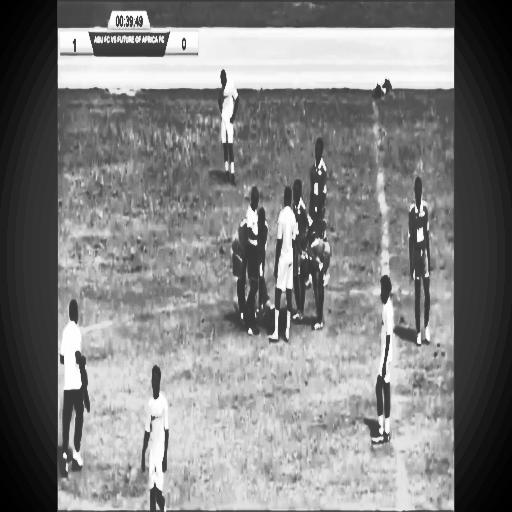distract: (59, 270, 96, 495)
referee: (248, 185, 258, 334)
team1: (135, 351, 175, 512), (371, 263, 396, 455), (274, 174, 294, 356), (215, 61, 244, 185)
team2: (410, 170, 434, 356), (291, 159, 312, 320), (296, 242, 332, 333), (312, 127, 330, 243), (234, 208, 248, 327)
